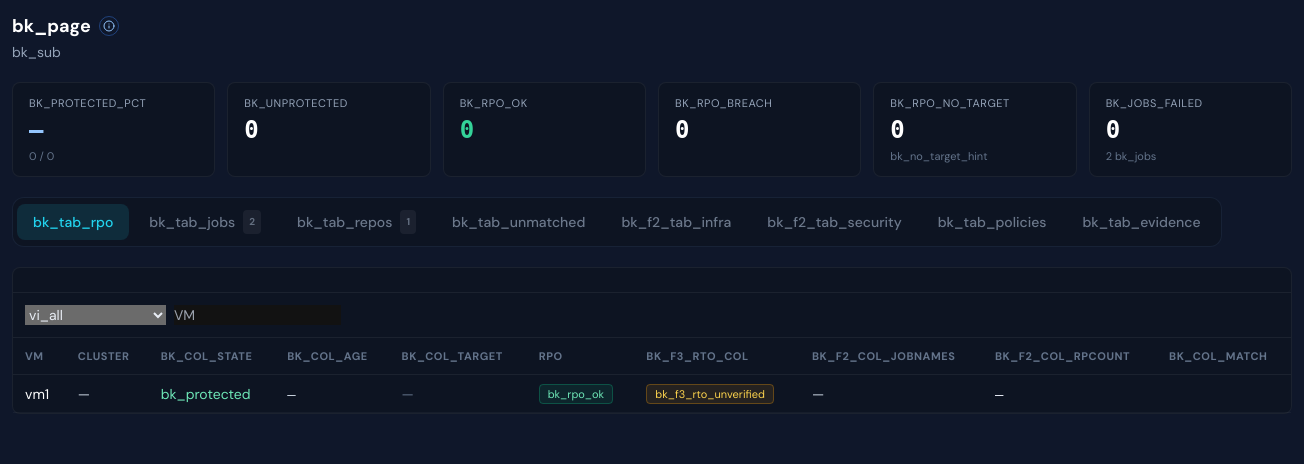
Test: F.2 Yedek sekmeleri › Jobs tab: eksik alan "—" (kapalı değil), yetkisiz iş "ölçülemedi (yetki)"
Click the button "bk_tab_jobs 2": (205,222) [133,202,277,242]
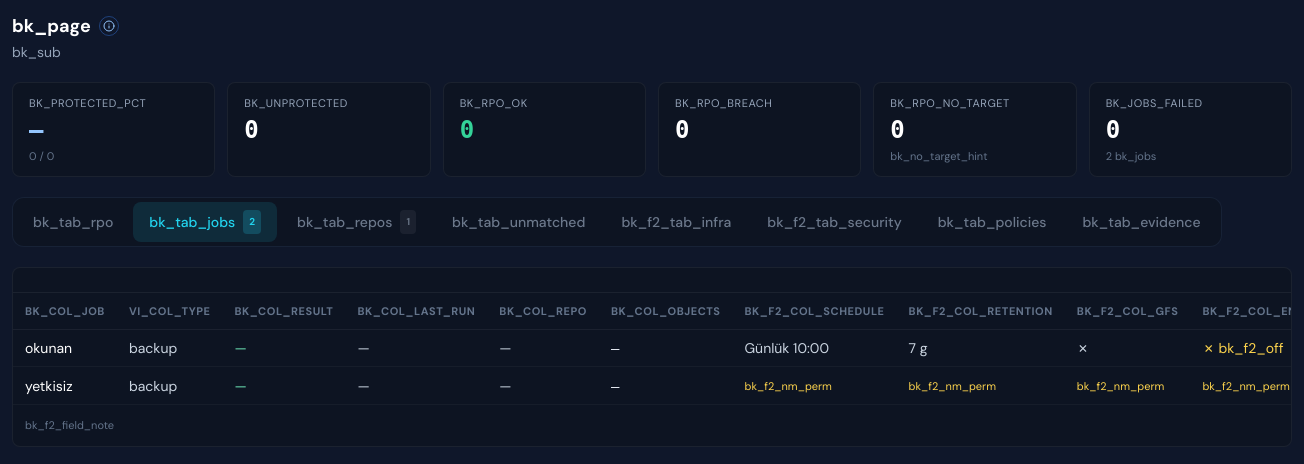
Expected: the text "okunan" is shown, [25,339,72,357]
Expected: the 1st text "bk_f2_nm_perm" is shown, [744,379,832,393]
Expected: the text "Günlük 10:00" is shown, [732,330,897,366]
